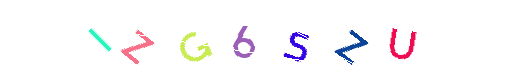6: (217, 0, 297, 80)
G: (154, 0, 234, 80)
I: (60, 0, 140, 80)
S: (222, 0, 302, 80)
U: (362, 0, 442, 80)
Z: (144, 0, 224, 80), (286, 0, 366, 80)
